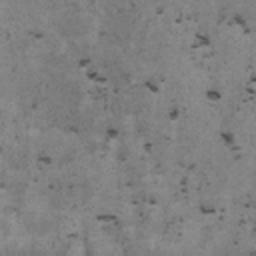Oxide scale of temperature system: (37, 6, 256, 256), (31, 31, 45, 40), (84, 244, 93, 256), (29, 101, 37, 110)
